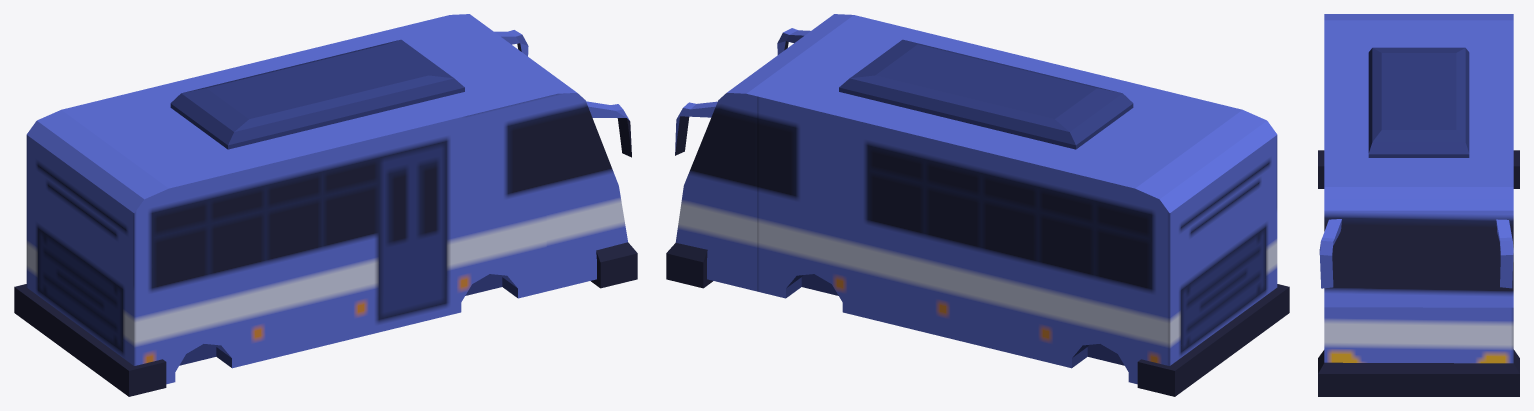
Rendered from Autobus.fbx.
3 renders of one model, left to right at view 1: azimuth 30°, elevation 25°; view 2: azimuth 150°, elevation 25°; view 3: azimuth 270°, elevation 25°, orthographic. The views are drawn at different scales.
Parts seen in each view (by area): view 1: Autobus; view 2: Autobus; view 3: Autobus.
Part boxes in pixels (box(x1,y1,x2,y2)): Autobus: box(14, 14, 637, 396); Autobus: box(666, 14, 1289, 396); Autobus: box(1318, 14, 1519, 396).
Bounding box in the file's own units: 1600 × 4092 × 1688.
Materials: 1 (1 with a texture image).
